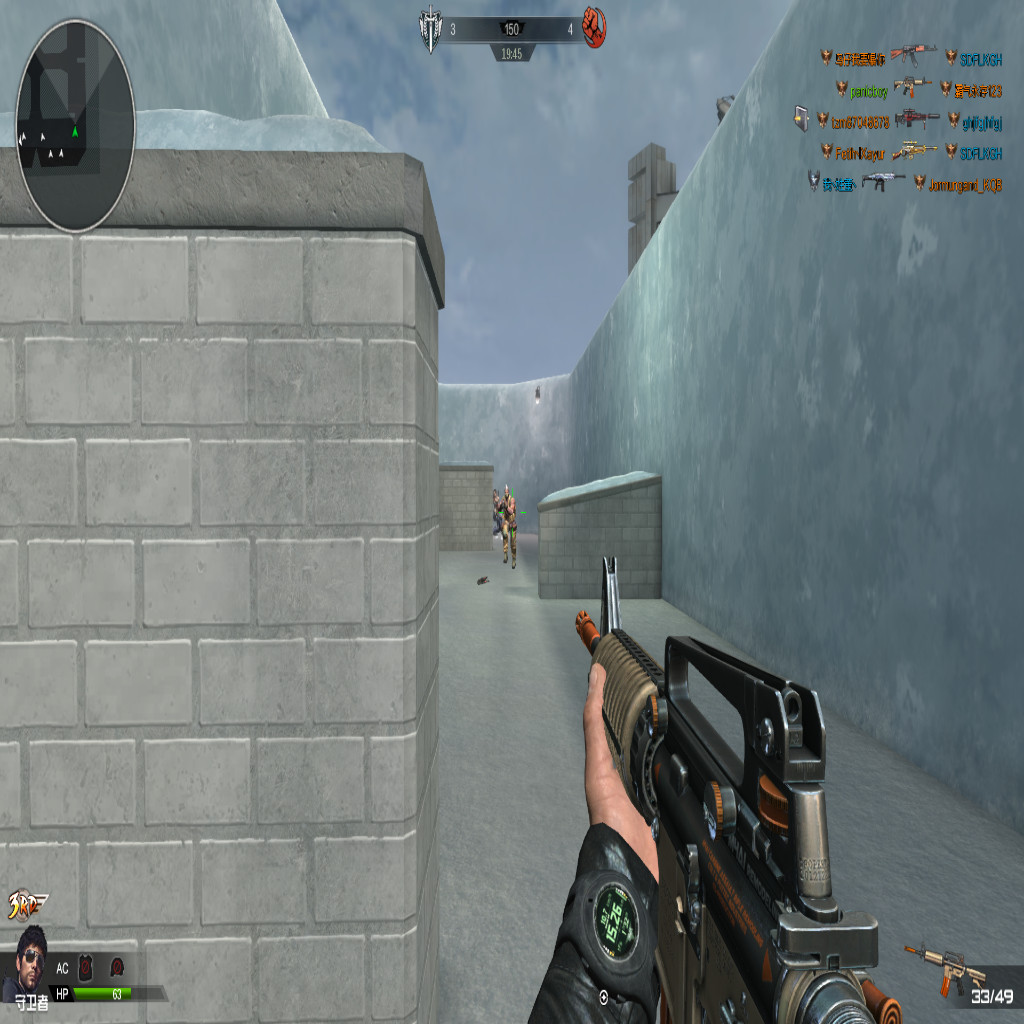tt: (500, 484, 514, 561), (508, 492, 518, 569)
